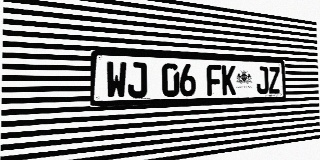0: (162, 63, 179, 97)
6: (179, 64, 196, 96)
F: (207, 64, 222, 96)
J: (127, 62, 147, 98), (256, 66, 269, 94)
K: (222, 65, 236, 95)
W: (106, 61, 127, 99)
Z: (268, 67, 280, 94)
